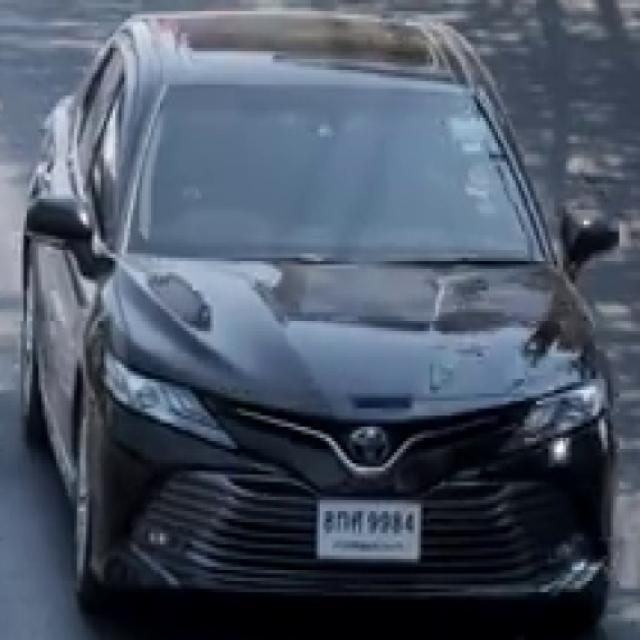plate: (317, 498, 420, 559)
